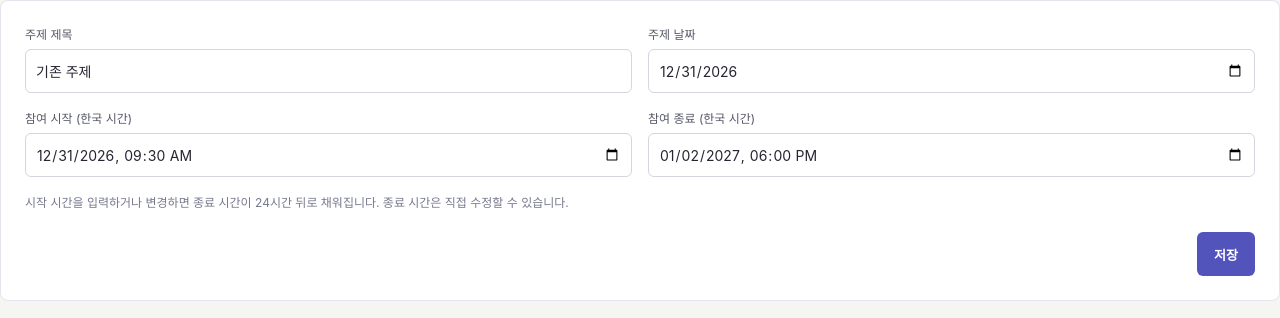
Test case: topic participation time input › preserves a stored custom duration until its start changes
This screenshot has width=1280, height=318.
Expected: the field labelled "참여 종료" holds "2027-01-02T18:00", [648, 133, 1255, 177]
Replace the text in the field labelled "주제 제목" with "제목만 변경". click: (328, 71)
box: [25, 49, 632, 93]
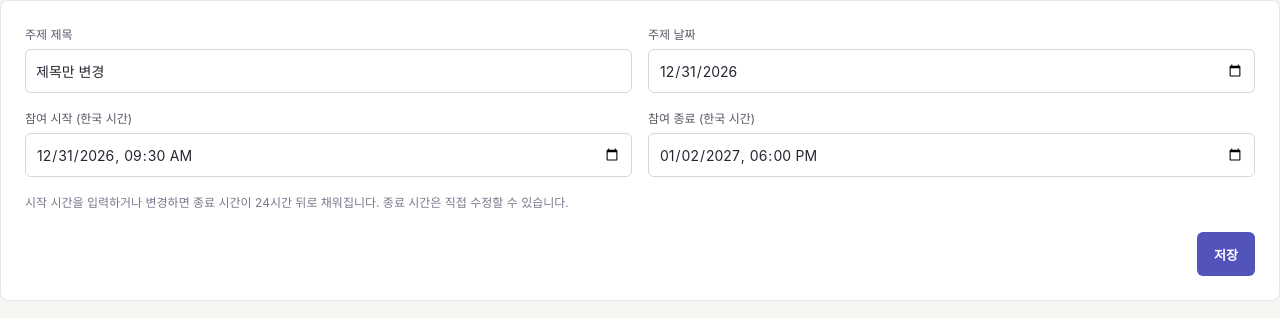
Expected: the field labelled "참여 종료" holds "2027-01-02T18:00", [648, 133, 1255, 177]
Replace the text in the field labelled "참여 시작" with "2026-12-31T11:00". click: (328, 155)
box: [25, 133, 632, 177]
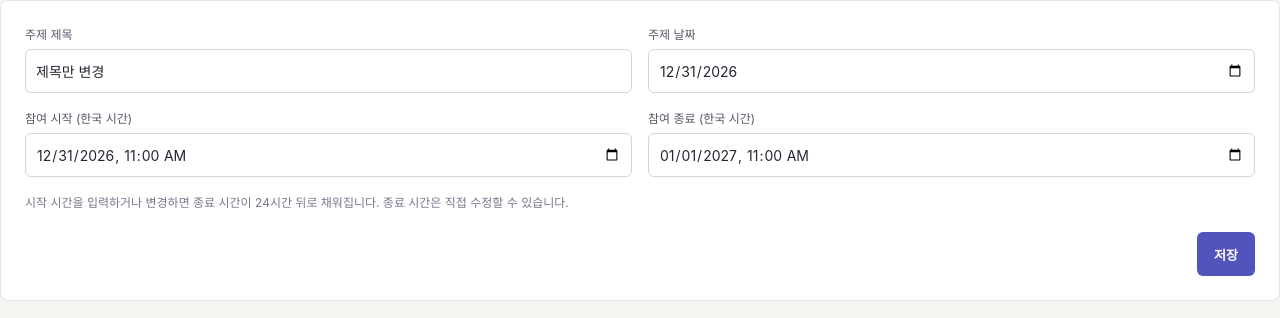
Expected: the field labelled "참여 종료" holds "2027-01-01T11:00", [648, 133, 1255, 177]
